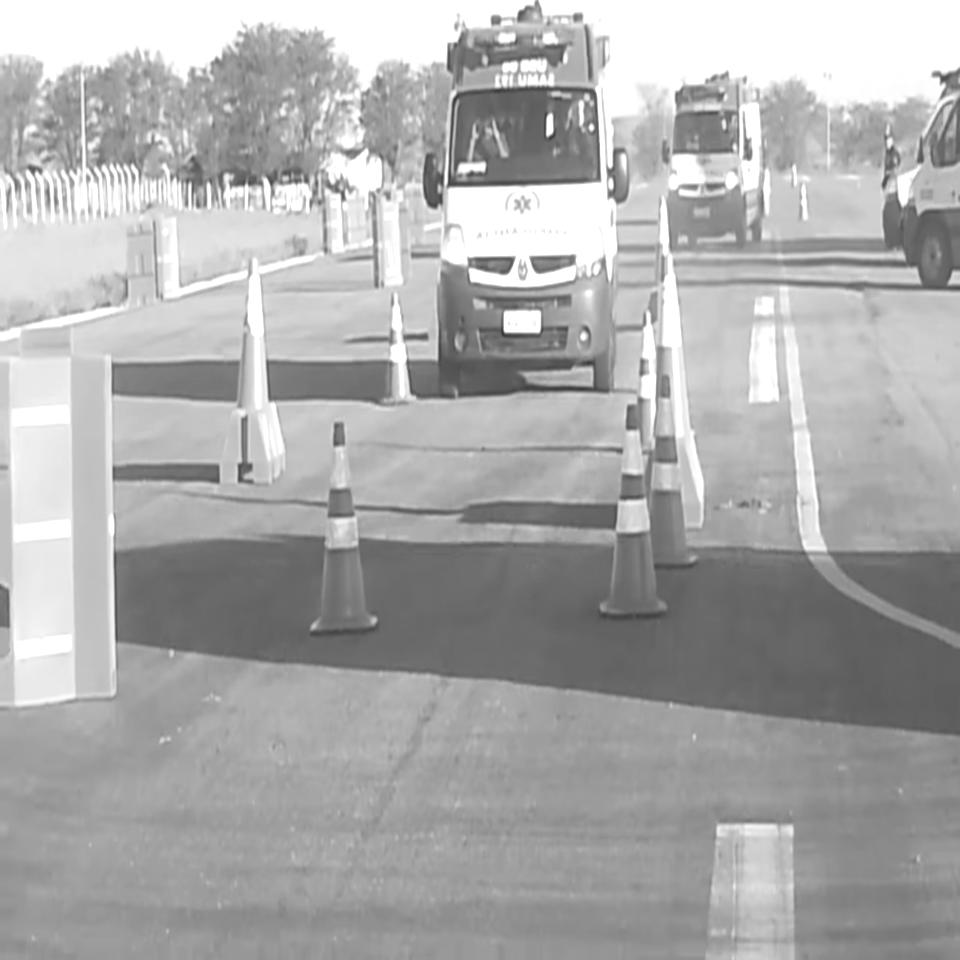ambulancia: (421, 0, 636, 399), (659, 66, 771, 254)
